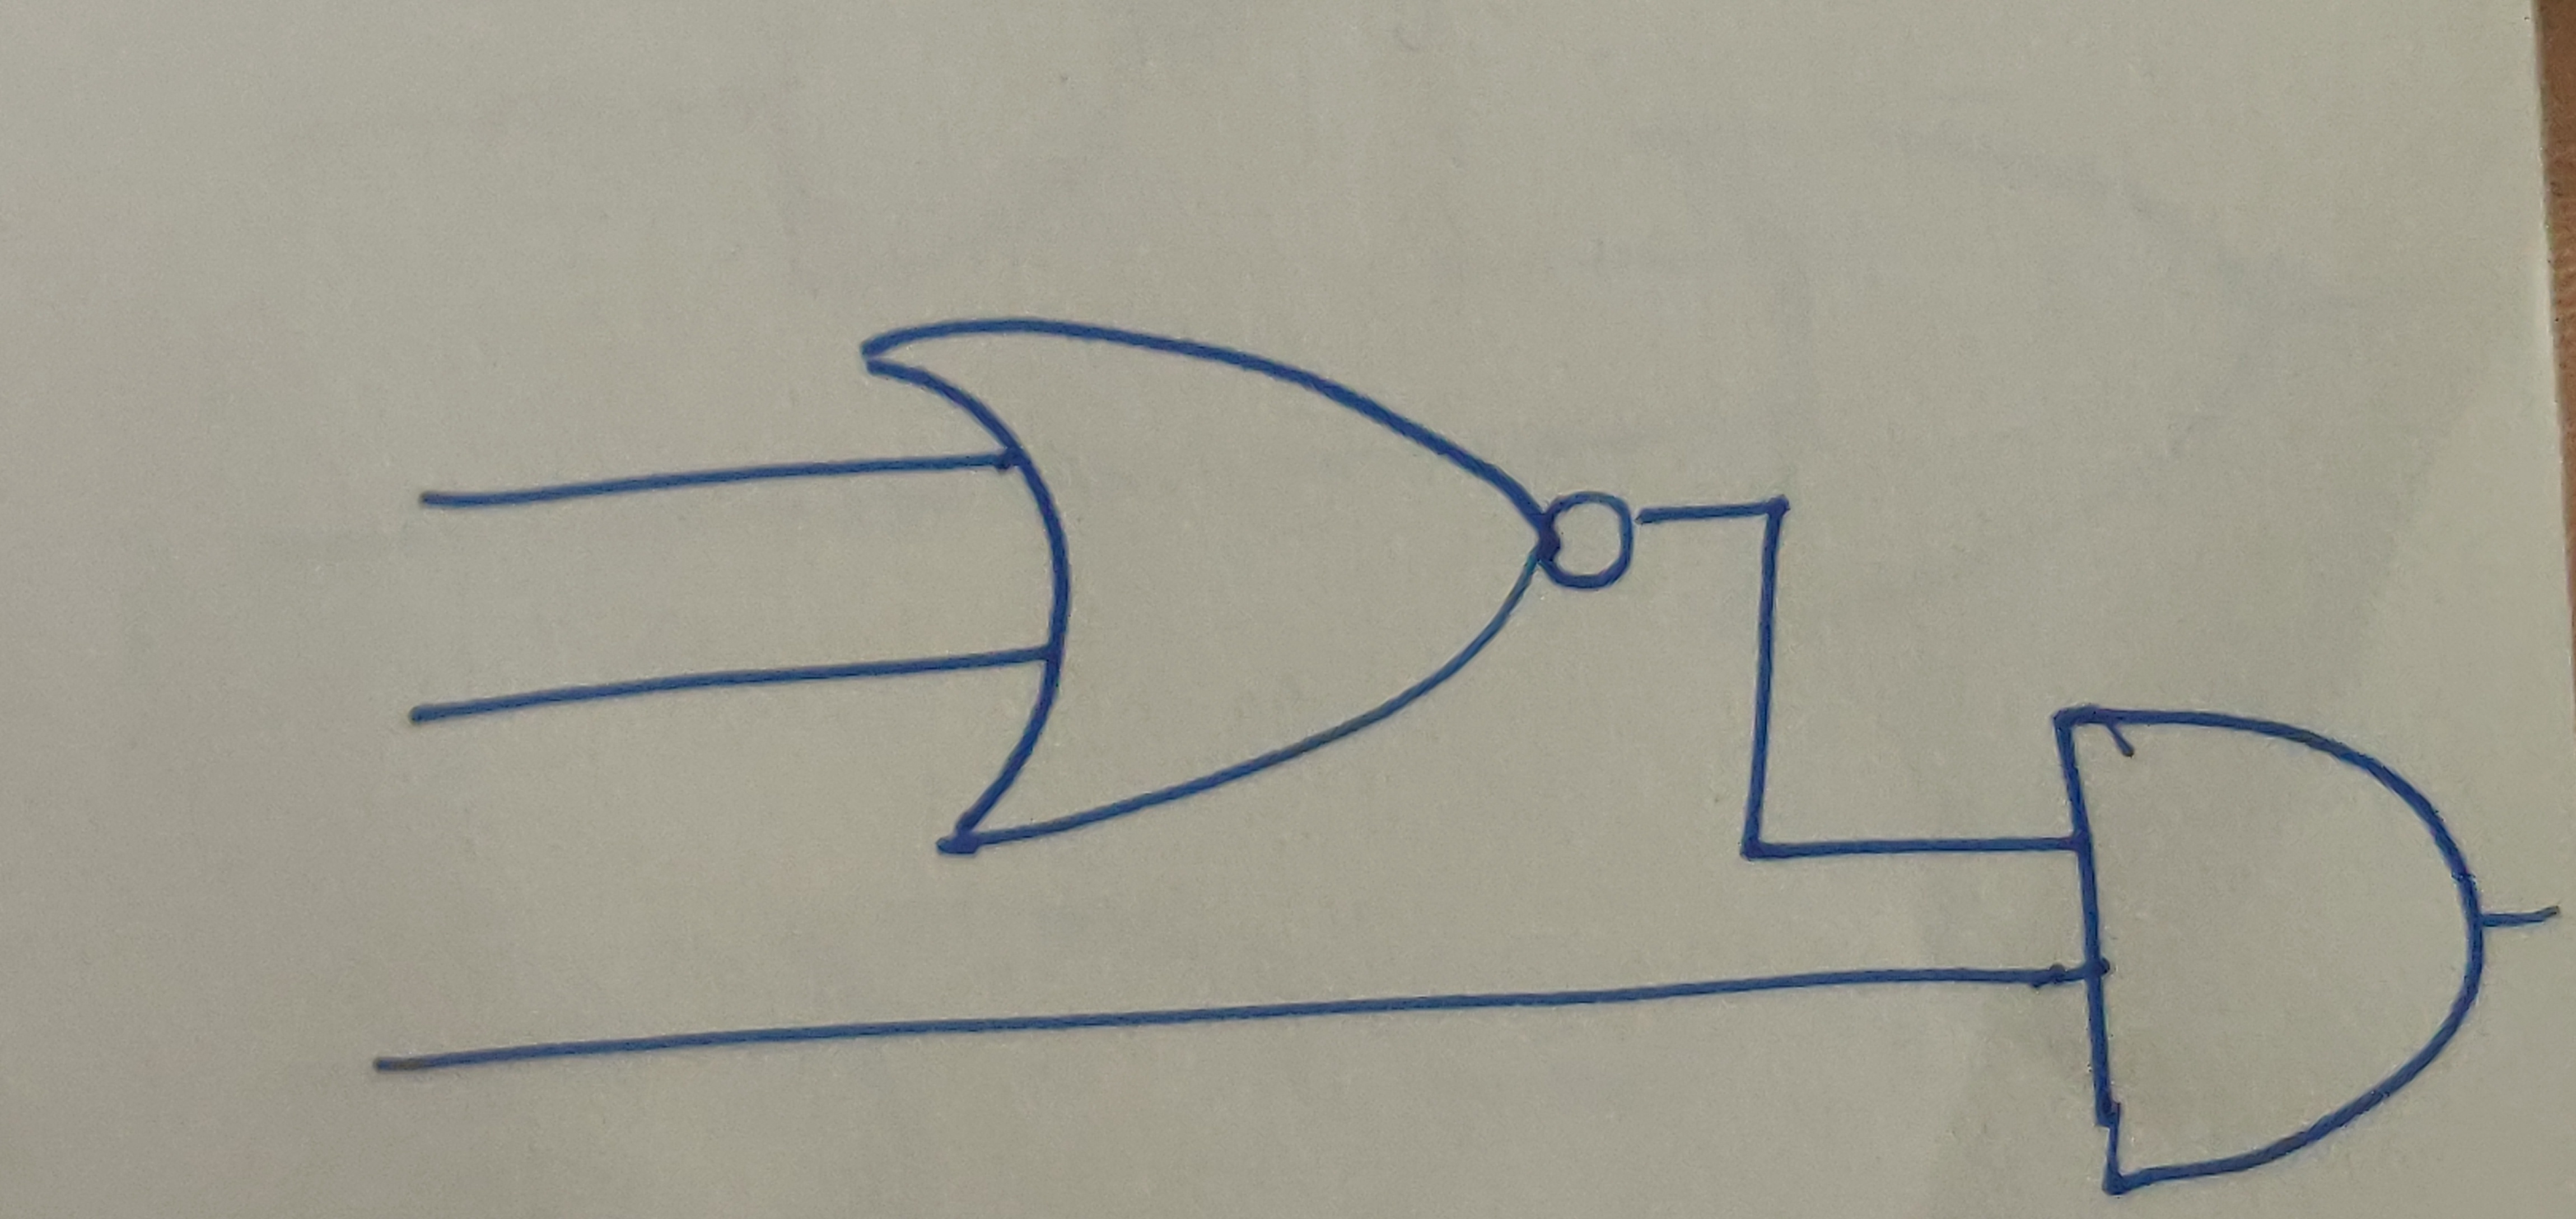and: (2039, 698, 2494, 1199)
not: (1538, 485, 1643, 596)
or: (849, 315, 1551, 859)
